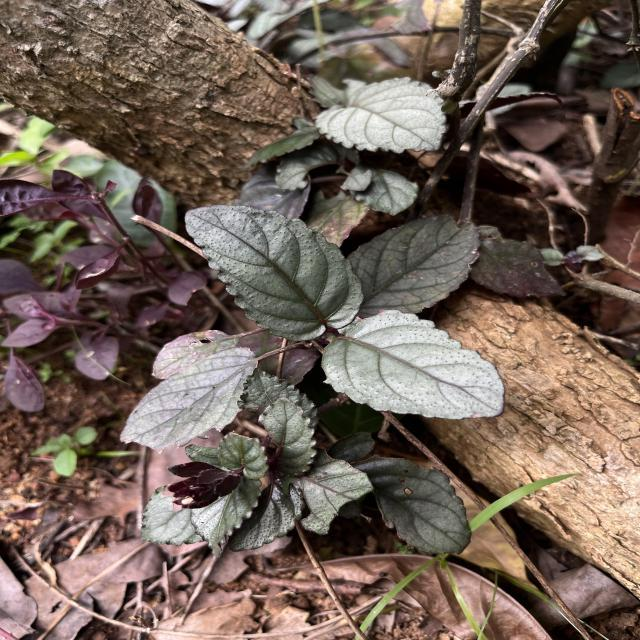Hemigraphis colorata: (181, 202, 369, 344), (318, 306, 508, 421), (116, 343, 262, 456), (344, 210, 484, 318), (310, 72, 452, 155)
